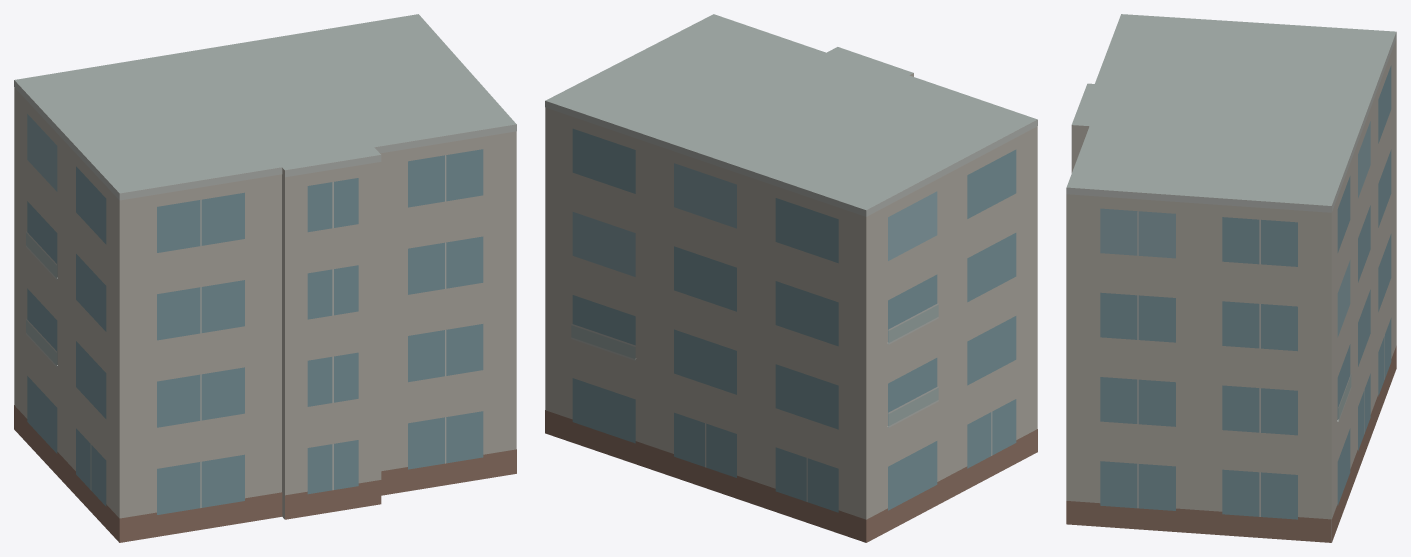
Rendered from survey-upis-32807170.glb.
The picture shows the model from 3 angles, left to right: view 1: azimuth 30°, elevation 25°; view 2: azimuth 150°, elevation 25°; view 3: azimuth 270°, elevation 25°; orthographic projection. The views are drawn at different scales.
Parts seen in each view (by area): view 1: survey-upis-32807170.tmp; view 2: survey-upis-32807170.tmp; view 3: survey-upis-32807170.tmp.
Boxes of the visible parts, x1,y1,x2,y2 form: survey-upis-32807170.tmp: (14,14,516,542); survey-upis-32807170.tmp: (545,14,1037,542); survey-upis-32807170.tmp: (1066,14,1396,542).
Bounding box in the file's own units: 14.93 × 12.2 × 10.85.
